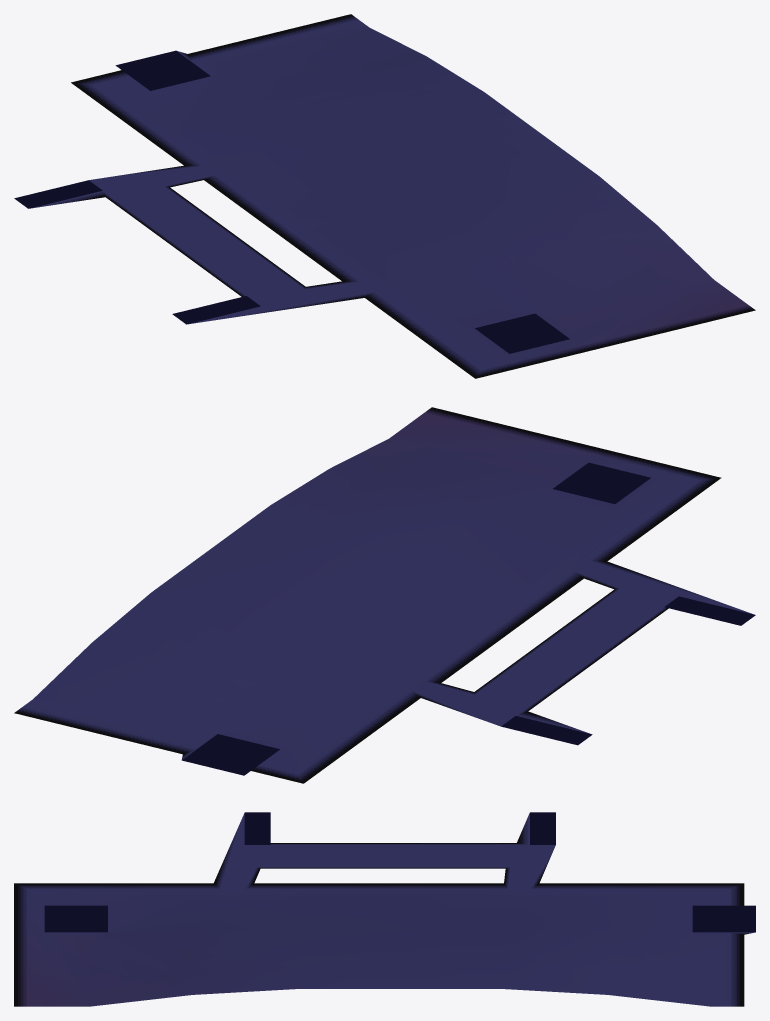
3 views of the same model, one above another, from view 1: azimuth 30°, elevation 25°; view 2: azimuth 150°, elevation 25°; view 3: azimuth 270°, elevation 25° (orthographic). The views are drawn at different scales.
Parts seen in each view (by area): view 1: Joint_0_Object_0; view 2: Joint_0_Object_0; view 3: Joint_0_Object_0.
Boxes of the visible parts, x1,y1,x2,y2 form: Joint_0_Object_0: (14,14,755,378); Joint_0_Object_0: (14,407,755,783); Joint_0_Object_0: (14,812,755,1006).
Bounding box in the file's own units: 3550 × 153 × 5725.
Materials: 1 (1 with a texture image).
